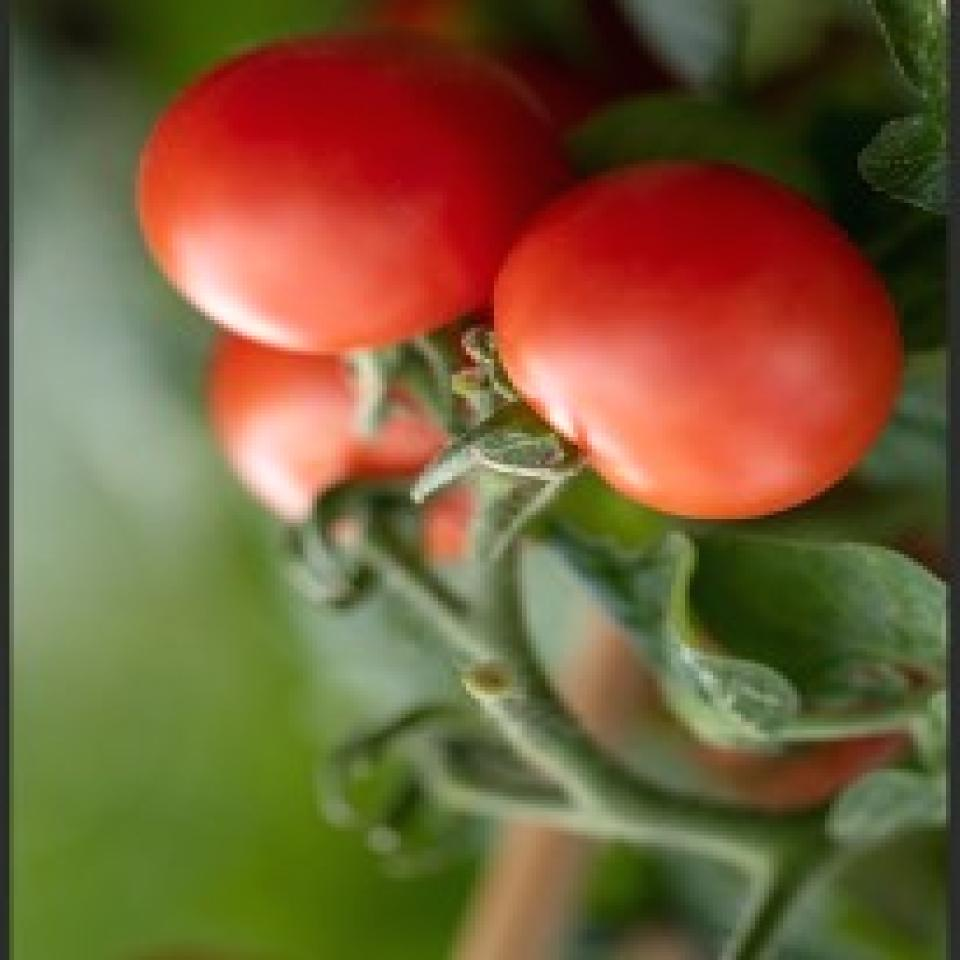Healthy: (489, 154, 922, 553), (135, 24, 566, 360), (197, 300, 553, 578)
